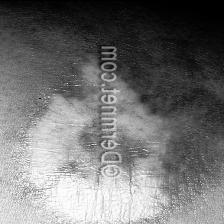Non-Cancerous Skin Condition: (13, 53, 204, 224)
